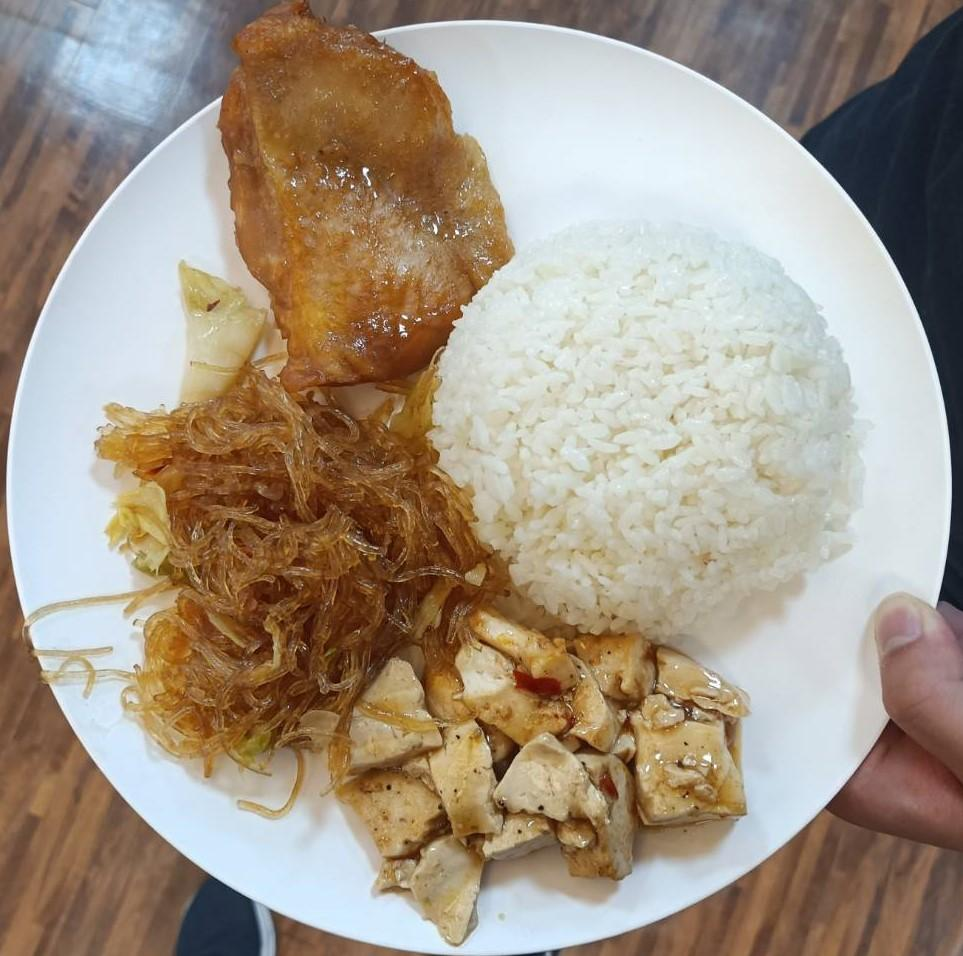big fried chicken leg: (8, 10, 963, 956)
big herbal chicken leg: (428, 204, 867, 642)
braised fish fillet: (92, 368, 501, 769), (323, 603, 758, 942)
braised pork: (204, 8, 520, 389)
